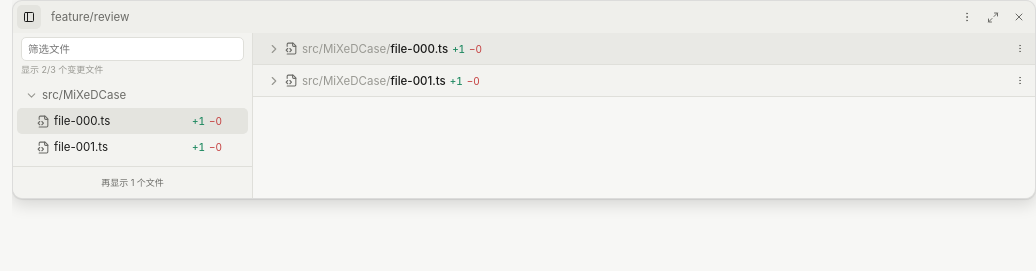
it: GitReviewPanel › resets backend pagination when the path filter changes
The image size is (1036, 271).
Check: the number of elements with class "diff-viewer__tree-file" is 2, box [17, 108, 248, 134]; [17, 134, 248, 160]
Click the button "再显示 1 个文件". click: (132, 182)
box: [13, 166, 252, 198]
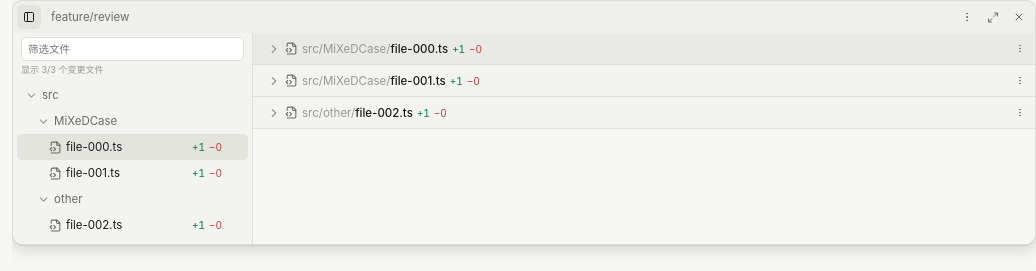
Check: the number of elements with class "diff-viewer__tree-file" is 3, box [17, 134, 248, 160]; [17, 160, 248, 186]; [17, 212, 248, 238]
Click the text "file-002.ts" below "显示 3/3 个变更文件". click: (94, 225)
box: [66, 218, 122, 232]
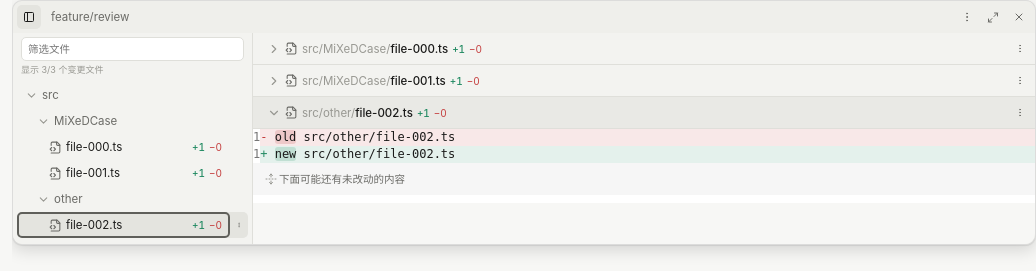
Type "MiXeDCase" into the search field named "筛选变更文件". click: (132, 49)
box: [21, 37, 244, 61]
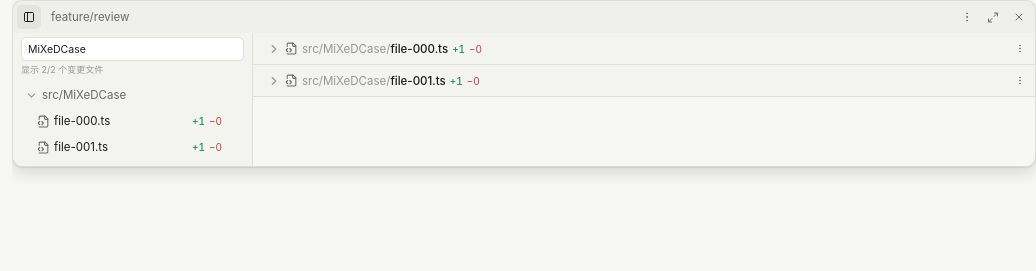
Check: the number of elements with class "diff-viewer__tree-file" is 2, box [17, 108, 248, 134]; [17, 134, 248, 160]
Check: the message reads "显示 2/2 个变更文件", box [21, 64, 103, 75]
Check: the button "file-002.ts" is gone
